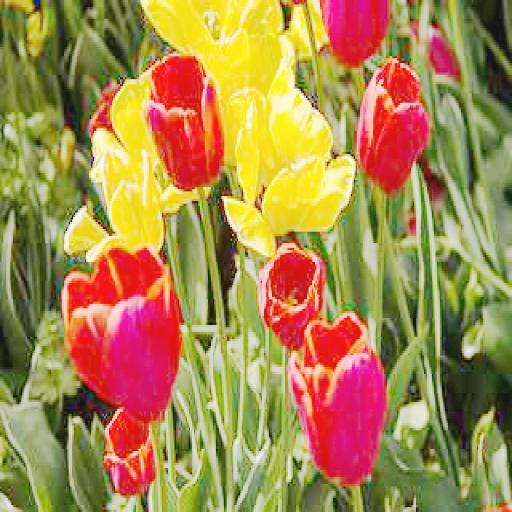tulip: (61, 245, 182, 421), (290, 311, 388, 486), (146, 54, 226, 189), (356, 56, 430, 194), (258, 241, 326, 346), (104, 409, 158, 493)
